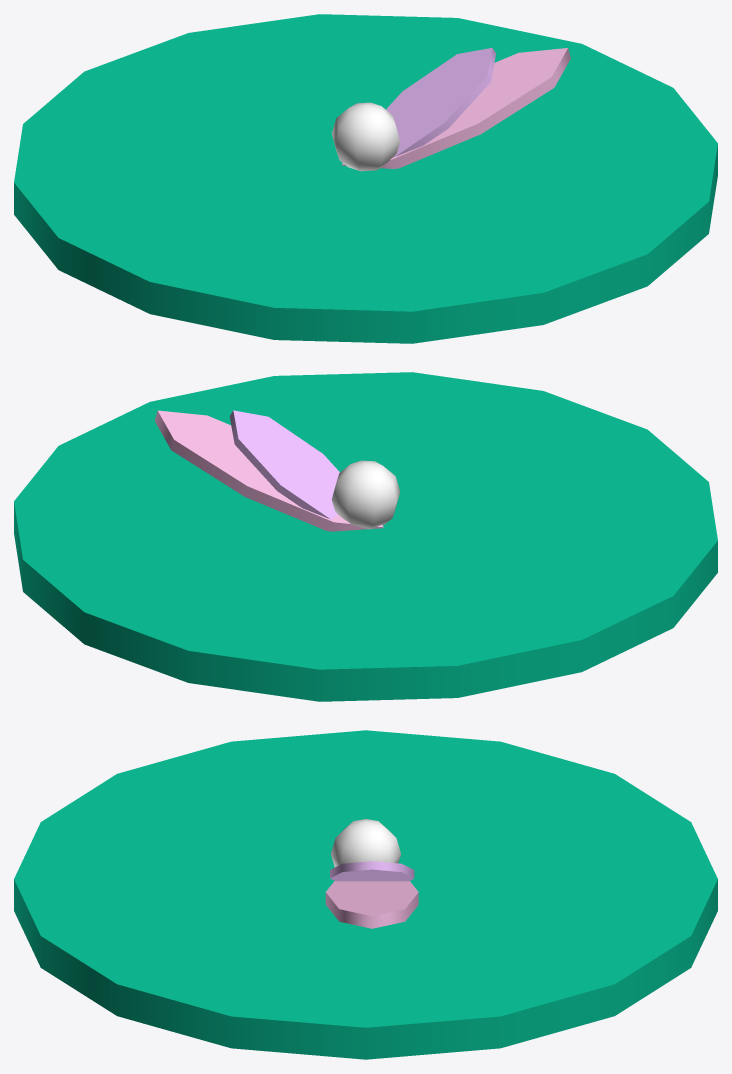
The model's file is lily-draco.gltf.
3 views of the same model, one above another, from view 1: azimuth 30°, elevation 25°; view 2: azimuth 150°, elevation 25°; view 3: azimuth 270°, elevation 25° (orthographic).
Parts seen in each view (by area): view 1: Cylinder (×3), Sphere; view 2: Cylinder (×3), Sphere; view 3: Cylinder (×3), Sphere.
Boxes of the visible parts, box(x1,y1,x2,y2) form: Cylinder (×3): box(14, 14, 717, 343); Sphere: box(331, 102, 400, 171); Cylinder (×3): box(14, 372, 717, 701); Sphere: box(331, 460, 400, 529); Cylinder (×3): box(14, 730, 717, 1059); Sphere: box(331, 819, 400, 867).
Size of what is drawn, in the model's own units: 2 by 0.3525 by 2.
